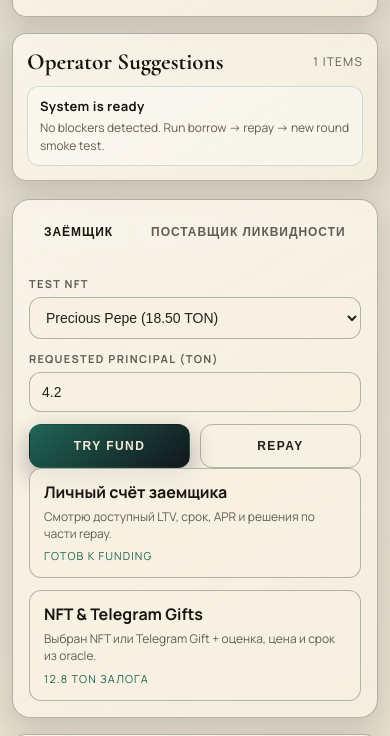
Test: demo sandbox: blocks funding on LTV breach
The image size is (390, 736).
(page scrolled)
Replace the text in the number field labelled "Requested principal (TON)" with "15": (195, 392) [29,372,361,412]
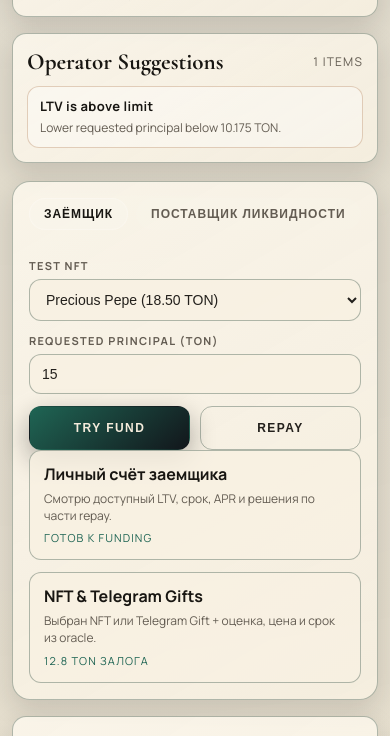
Click the button "TRY FUND": (110, 428) [29,406,190,450]
(page scrolled)
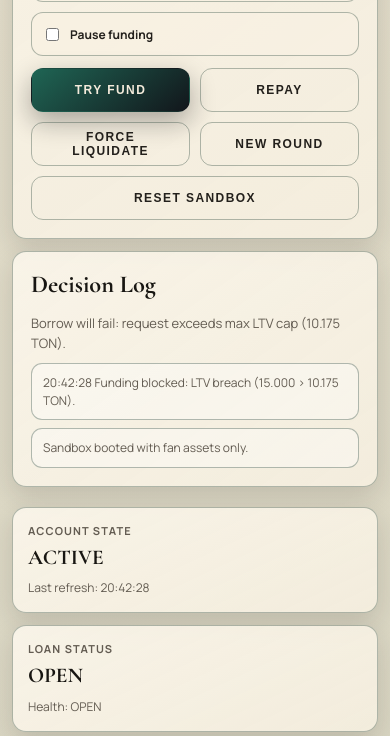
Check: the list item "20:42:28 Funding blocked: LTV breach (15.000 > 10.175 TON)." is shown, box [31,363,359,420]
